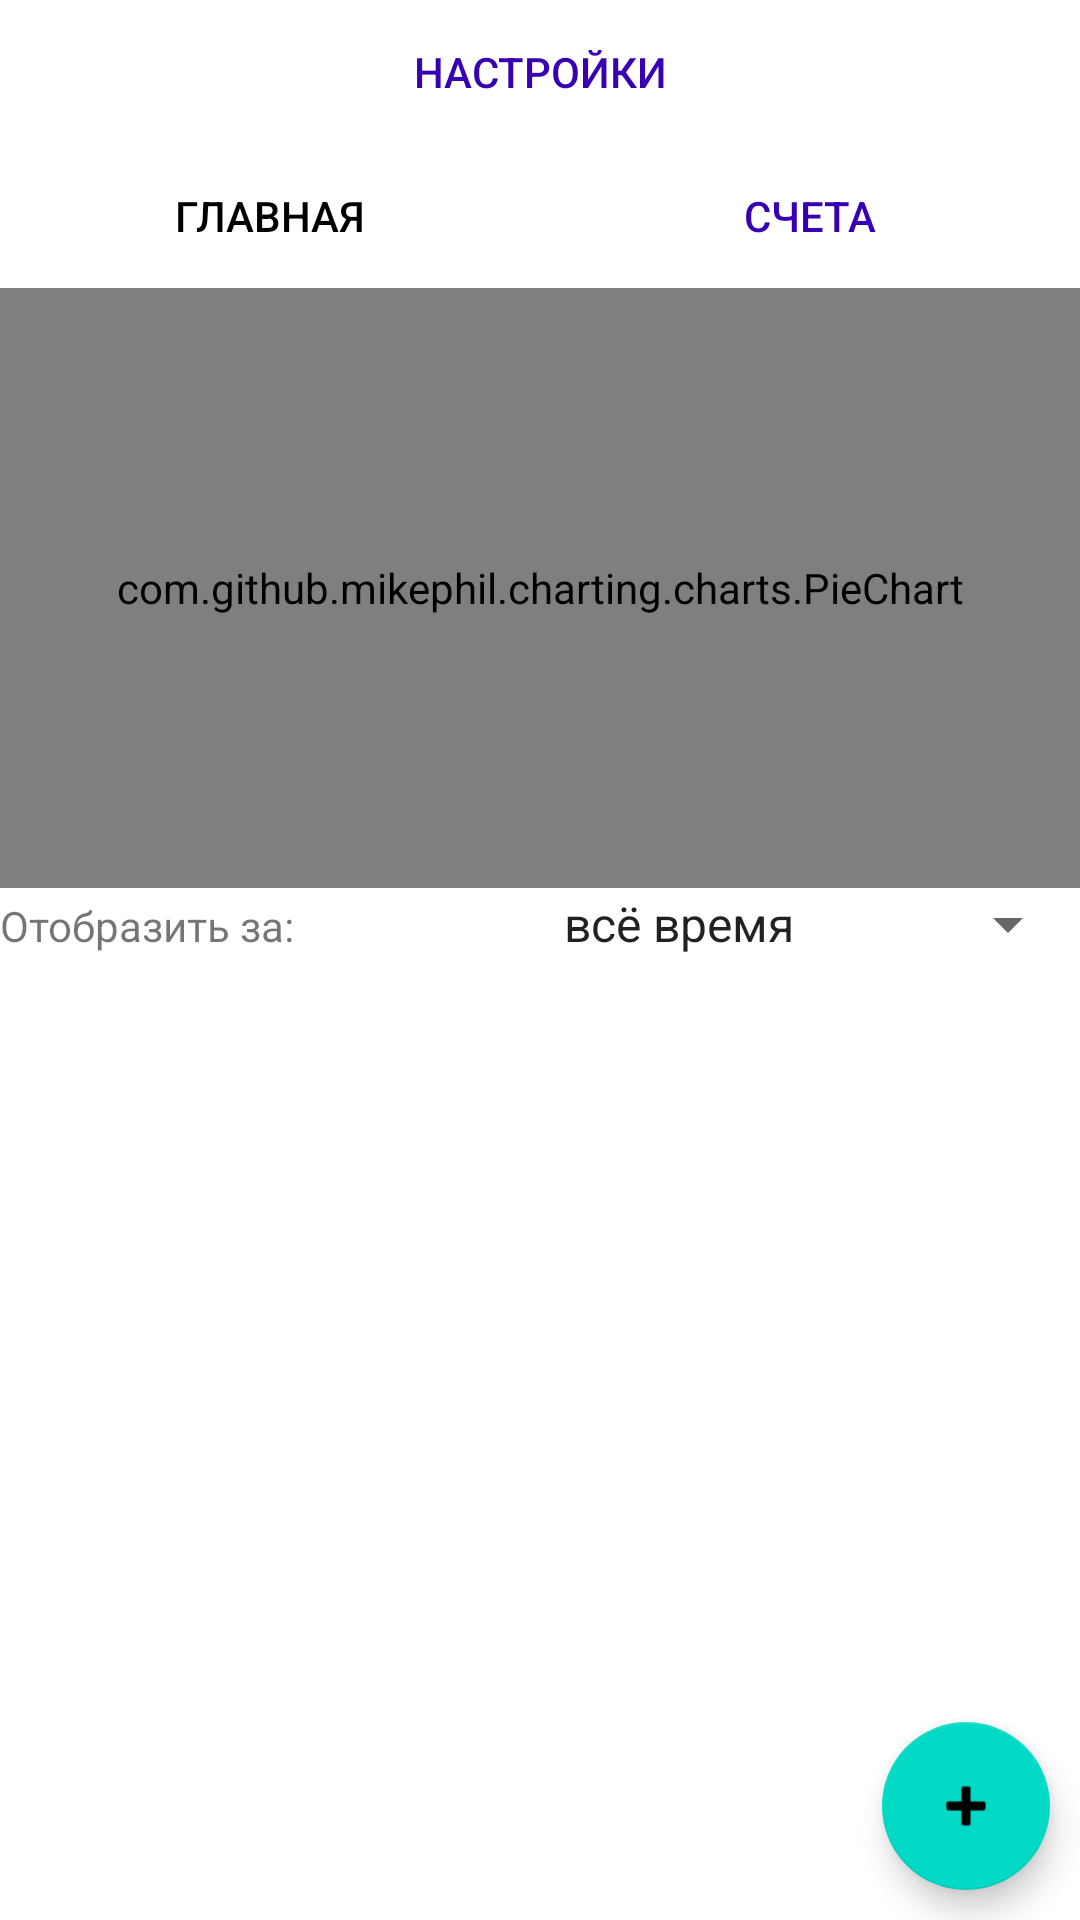

Locate icon controls on the screen. Image size 1080x1920, boxes as rect(x1, y1, x2, y2).
Добавление новой записи: rect(882, 1722, 1050, 1890)
